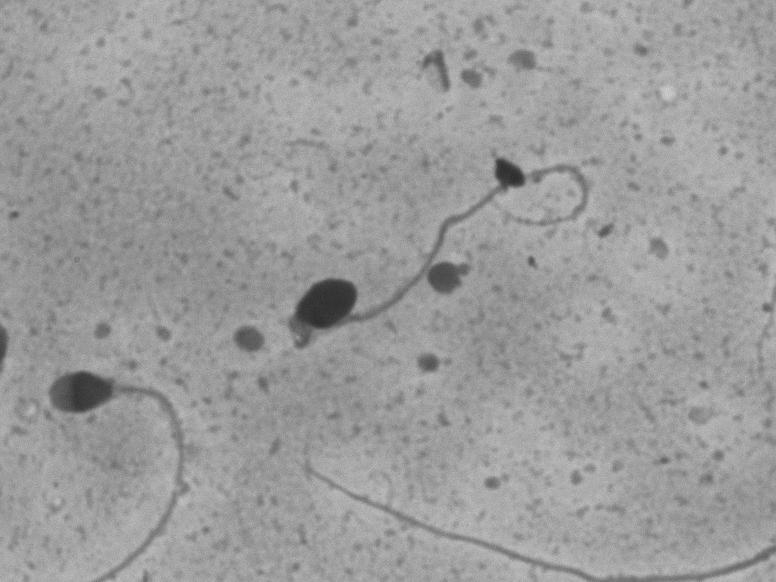Abnormal: (270, 143, 642, 397)
Normal: (34, 324, 232, 563)
